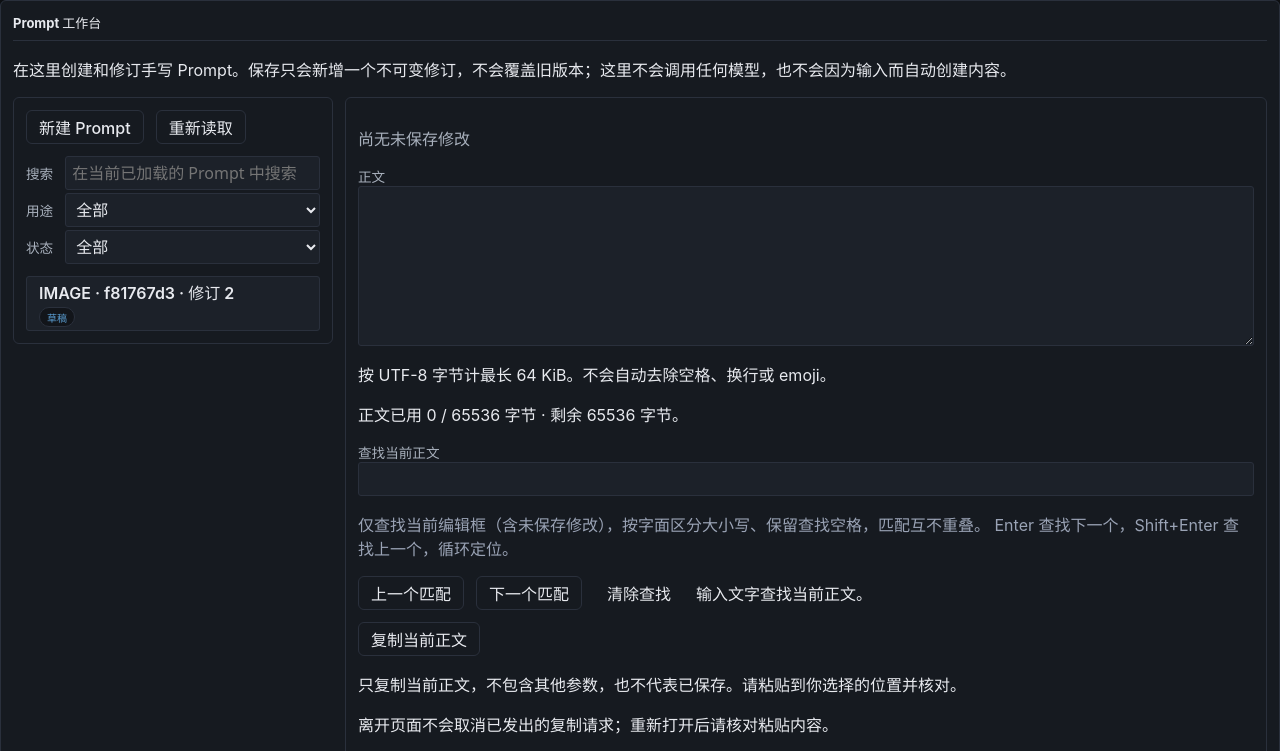
Prompt history finder › offers a recoverable no-match message while preserving the complete history warning
This screenshot has width=1280, height=751.
Click the button "IMAGE · f81767d3 · 修订 2 草稿": (173, 304) [26,276,320,331]
(page scrolled)
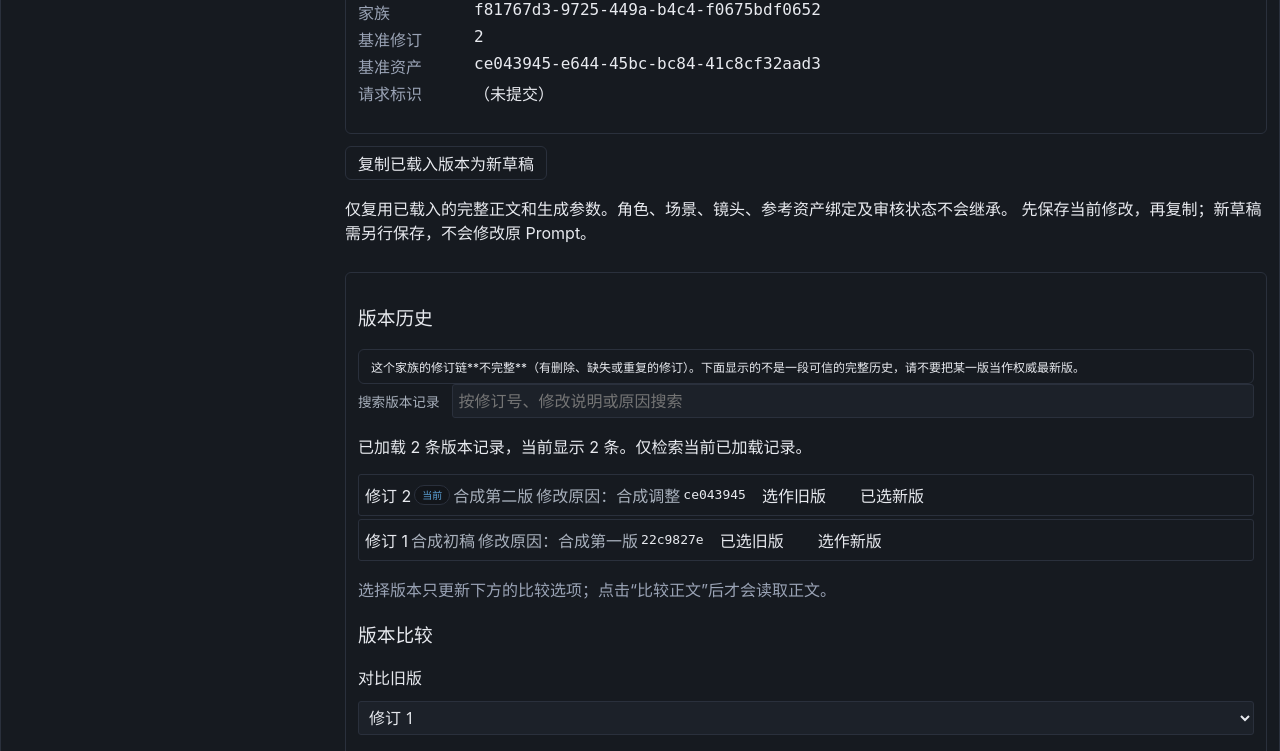
In the search field labelled "搜索版本记录": (853, 401) [452,384,1254,418], type "找不到的修改原因"
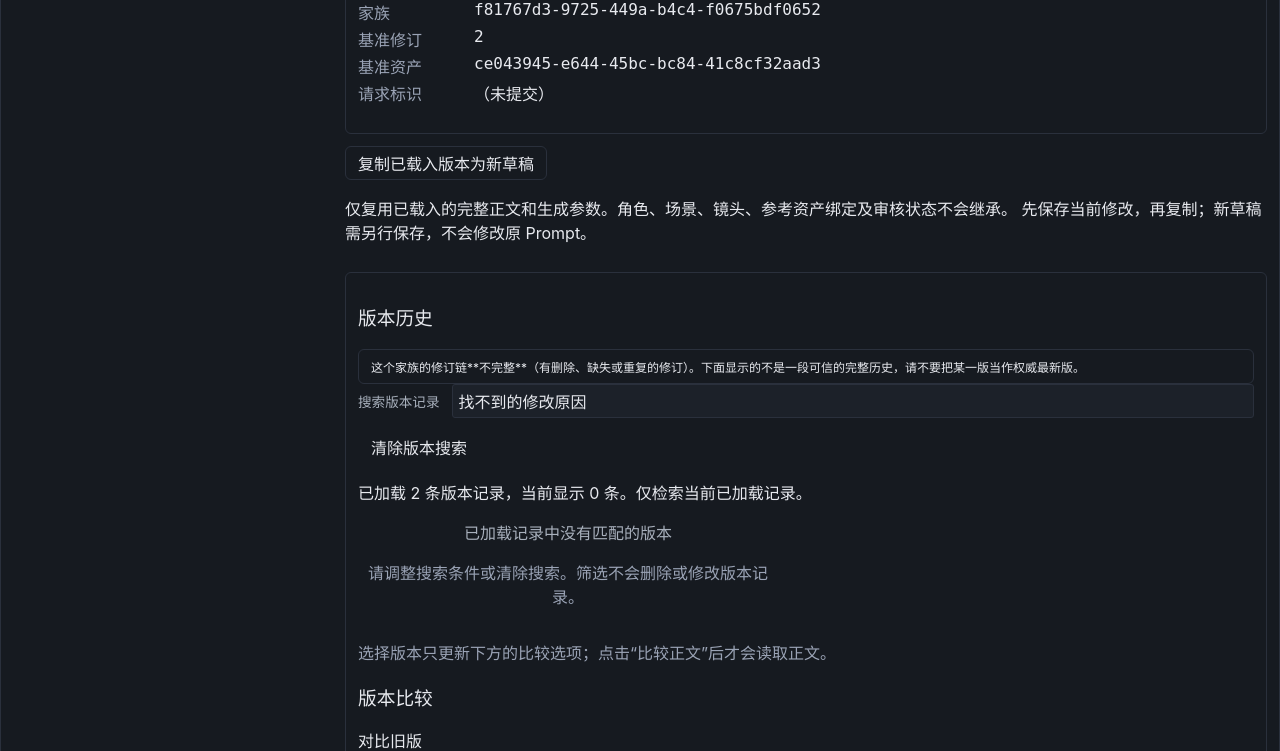
Check: the text "这个家族的修订链**不完整**（有删除、缺失或重复的修订）。下面显示的不是一段可信的完整历史，请不要把某一版当作权威最新版。" is shown, box [358,349,1254,384]
Check: the text "已加载记录中没有匹配的版本" is shown, box [464,523,672,543]
Check: the button "清除版本搜索" is shown, box [358,430,480,464]
